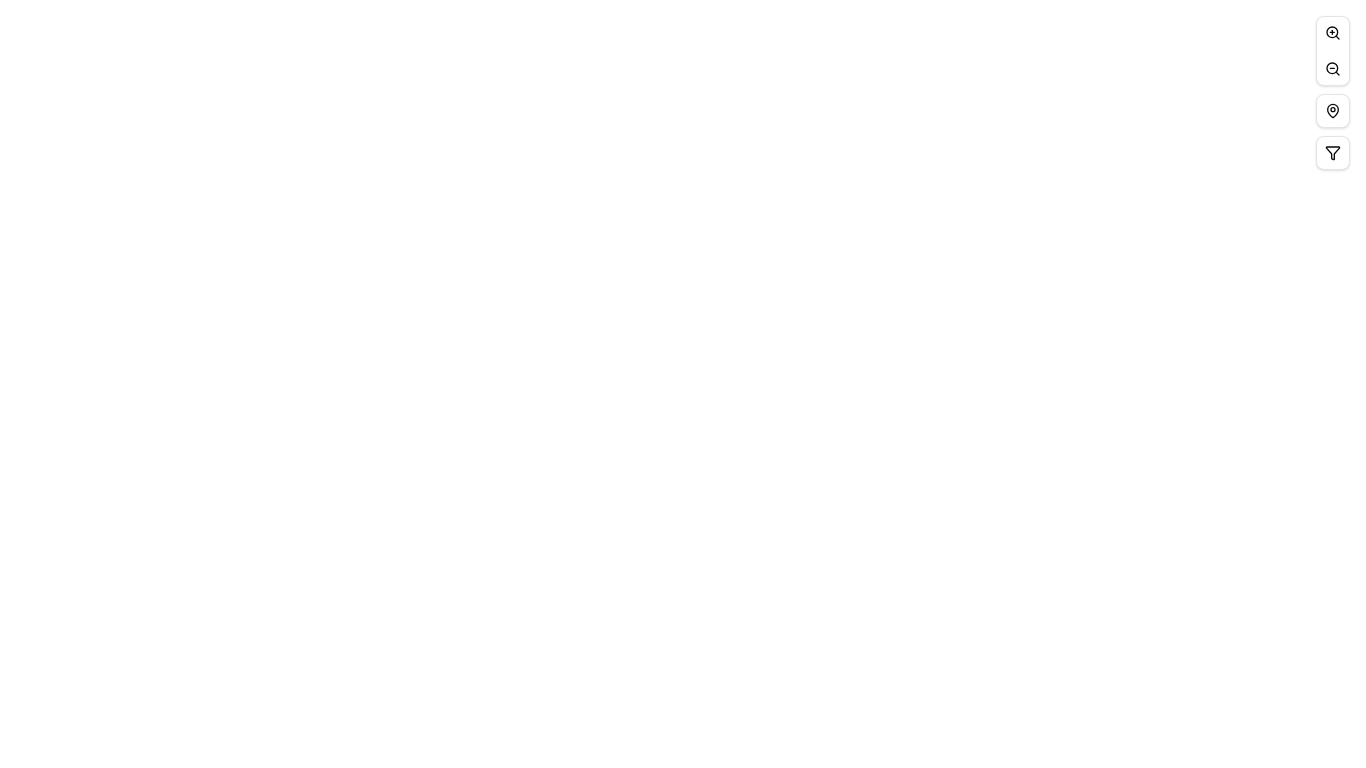
MapControls › should toggle advanced panel
Click the button named "Toggle map filters".
click(1333, 153)  # box [1316,136,1350,170]
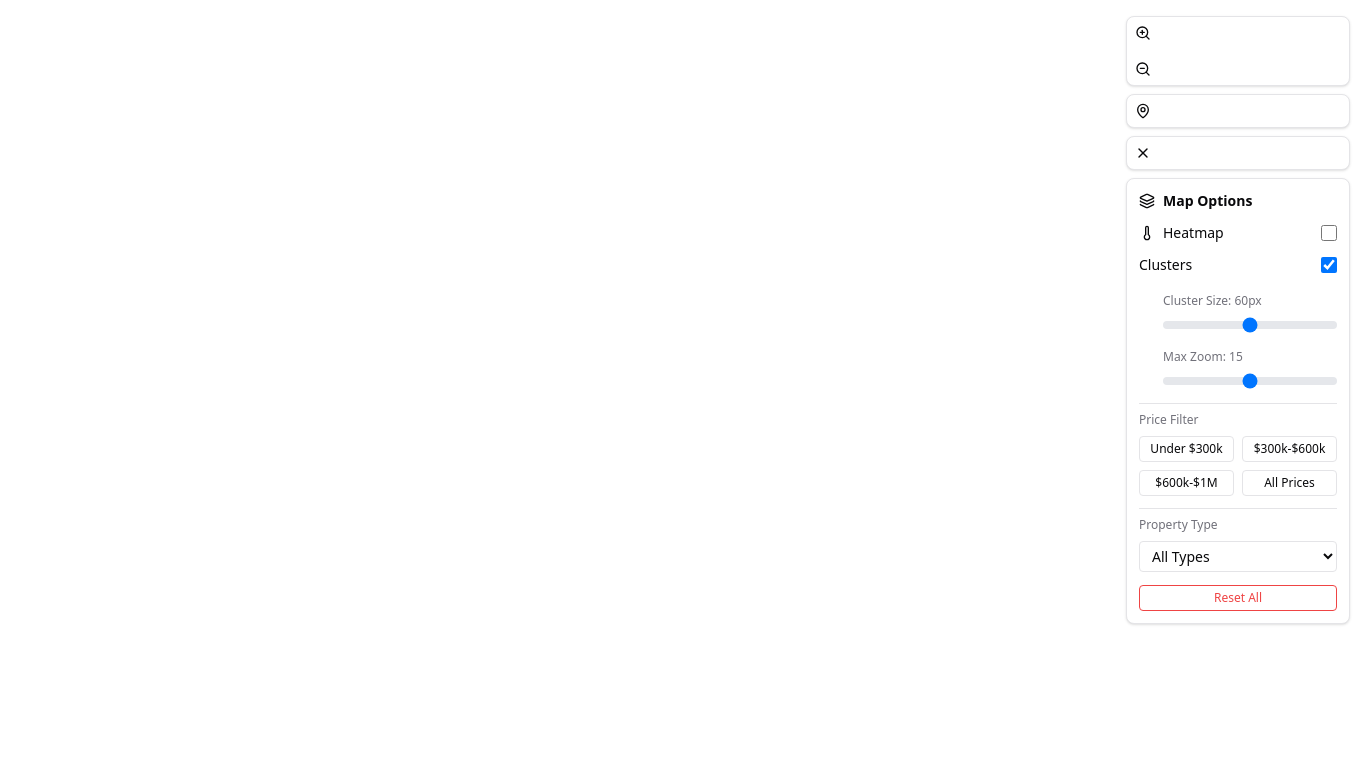
Now the dialog is shown, box [1126,178,1350,624]
Click the button named "Toggle map filters".
click(1238, 153)  # box [1126,136,1350,170]
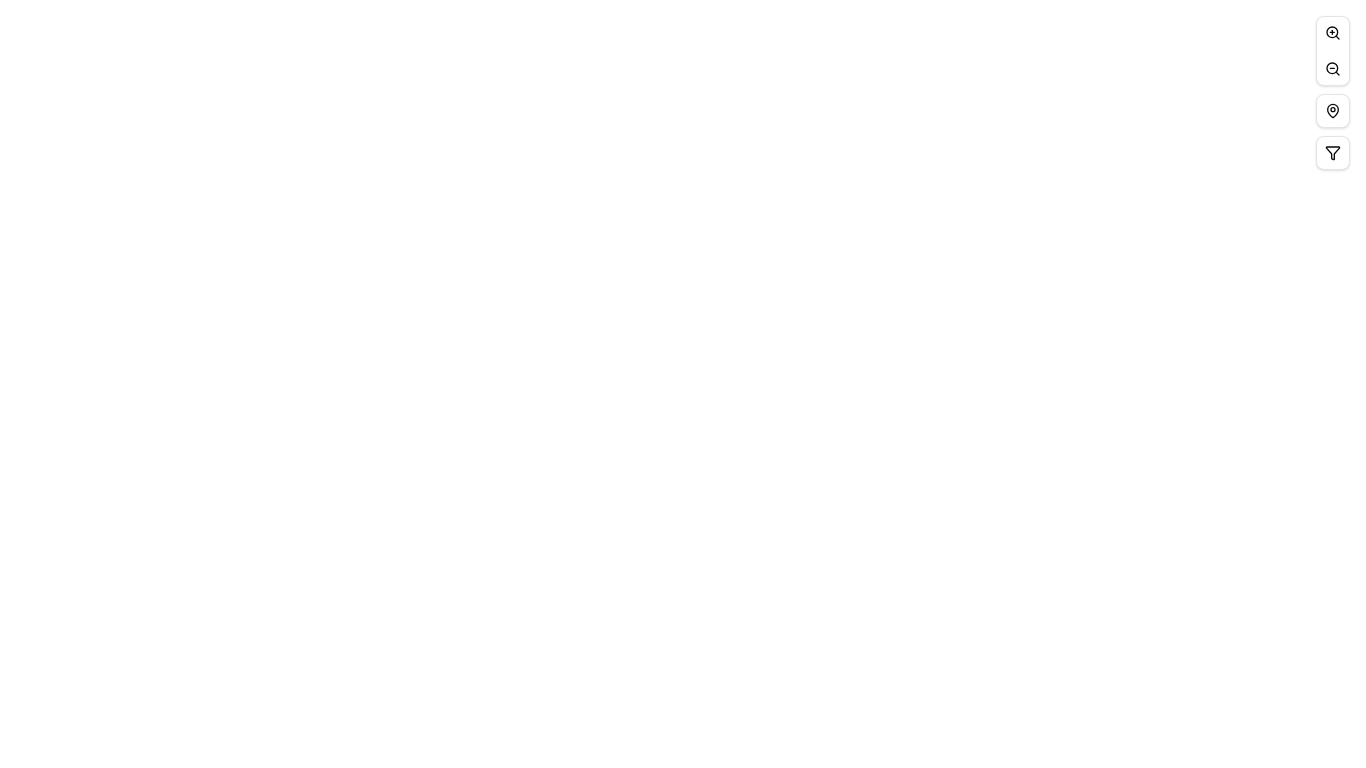
Now the dialog is gone
